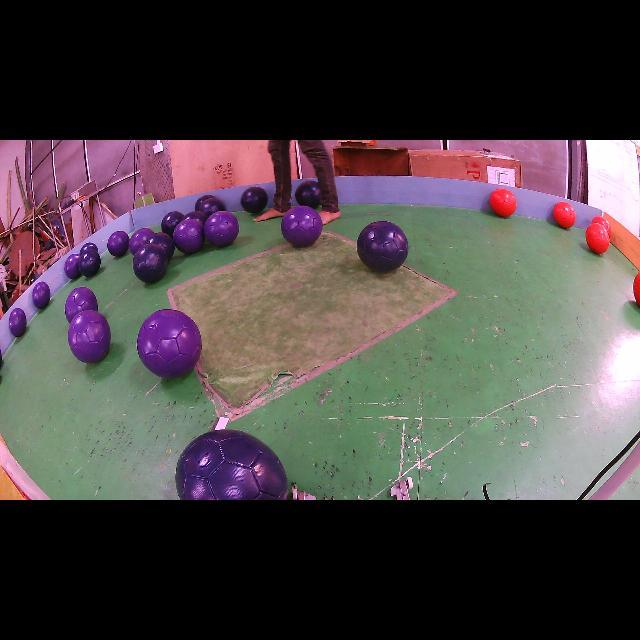B: (175, 430, 288, 500), (356, 221, 409, 272), (132, 242, 168, 282), (145, 232, 175, 259), (240, 186, 268, 214), (295, 180, 321, 209), (161, 211, 184, 238), (79, 250, 101, 277), (200, 198, 226, 218), (182, 210, 208, 225), (195, 194, 215, 209), (79, 242, 98, 255)
P: (138, 309, 201, 378), (68, 310, 111, 362), (281, 206, 322, 248), (204, 211, 239, 246), (65, 286, 98, 322), (172, 219, 205, 254), (129, 228, 154, 255), (108, 231, 129, 256), (32, 281, 50, 309), (9, 309, 26, 336), (64, 254, 81, 279)
R: (586, 222, 610, 254), (490, 189, 516, 216), (554, 201, 576, 228), (592, 216, 611, 237), (634, 272, 640, 305)
